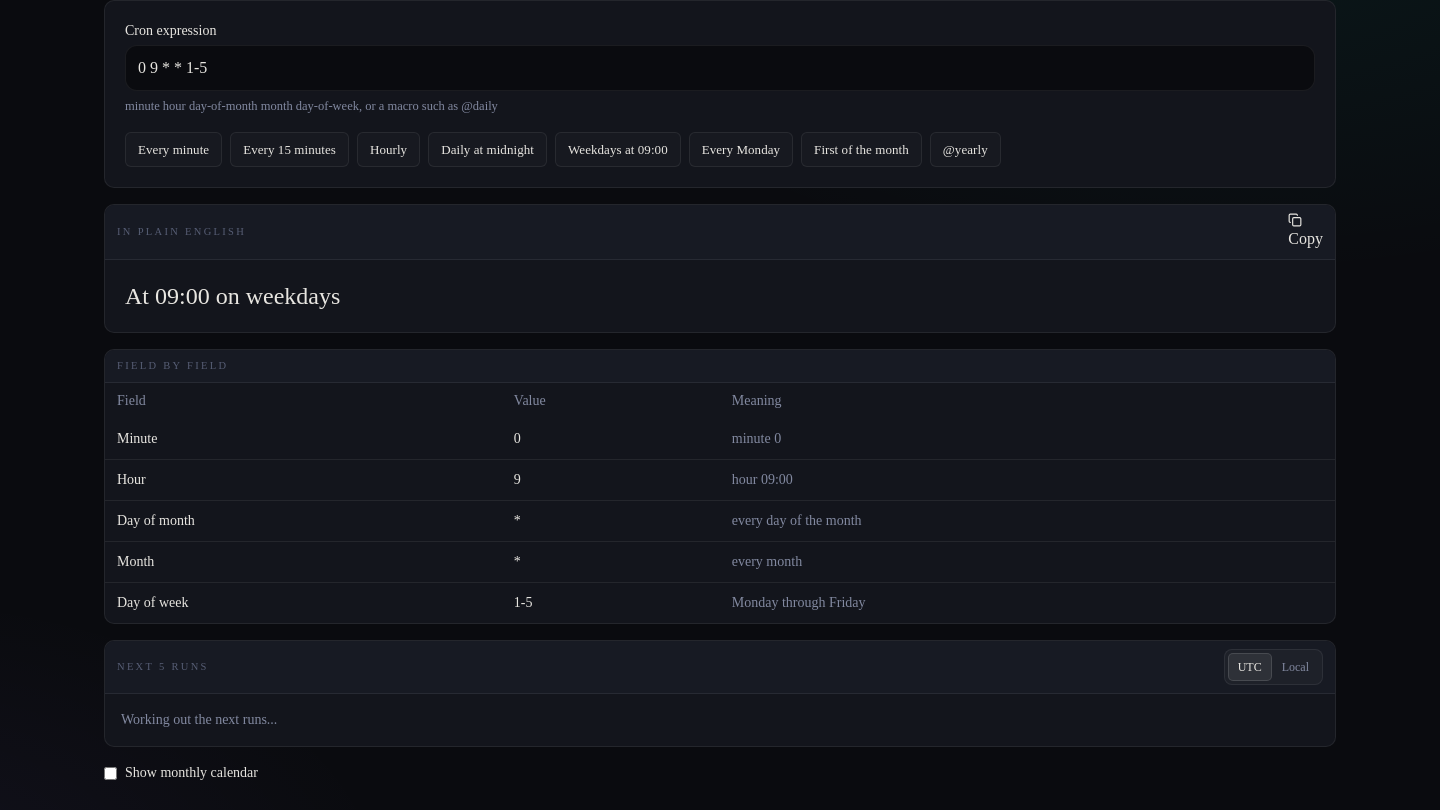
it: CronExplainerClient › errors › names the minute field for 60 * * * * and hides the results
The width and height of the screenshot is (1440, 810).
Replace the text in the field labelled "Cron expression" with "60 * * * *": [720, 68] box [125,45,1315,91]
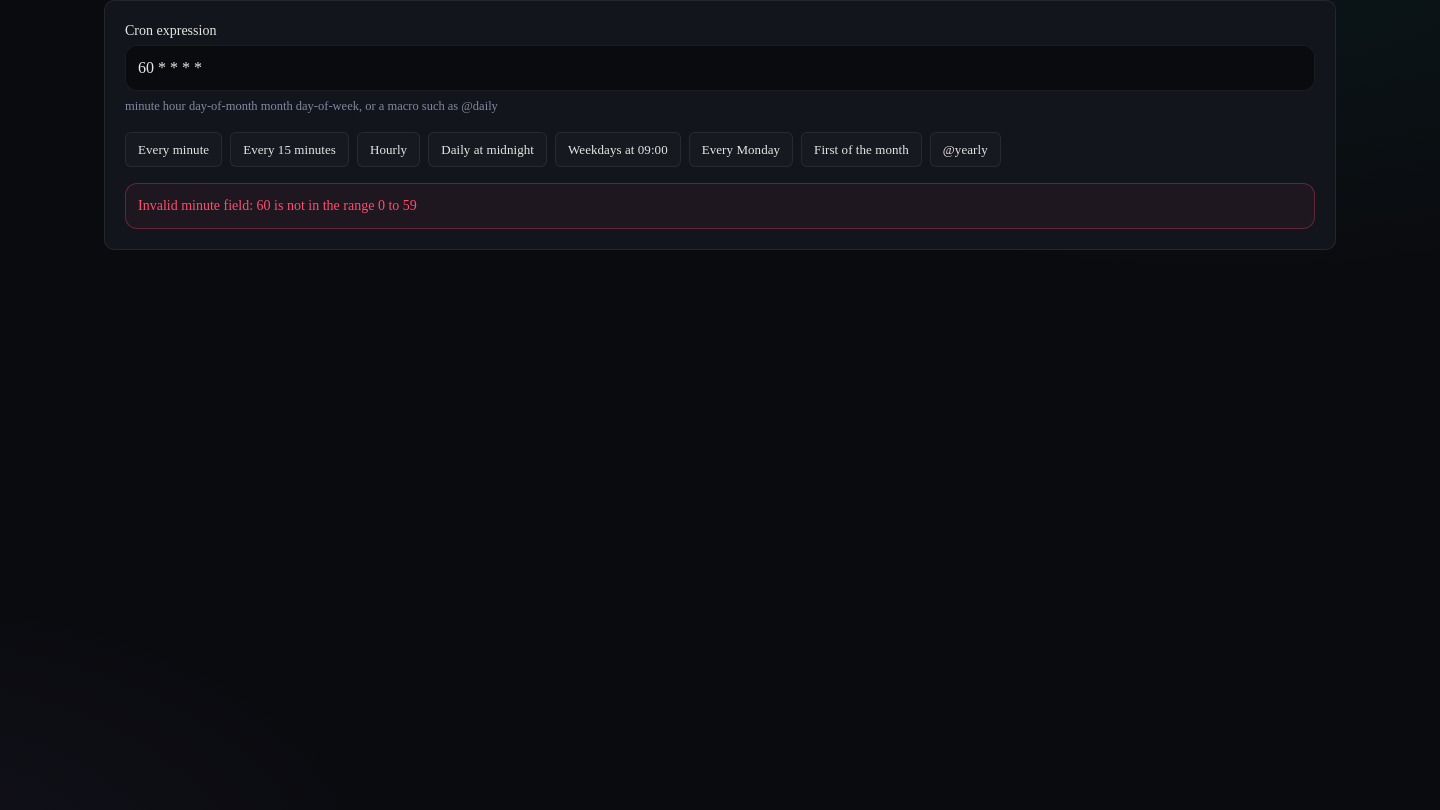
Result: the message shows "minute" at [138,198,417,213]
Result: the message shows "60" at [138,198,417,213]
Result: the heading "In plain English" is gone
